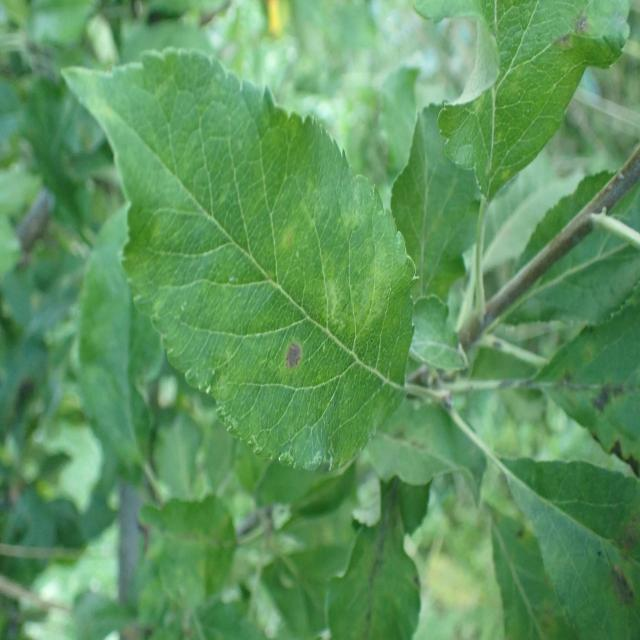scab: (150, 149, 409, 438), (495, 466, 640, 640), (466, 337, 640, 446), (526, 0, 593, 134)
